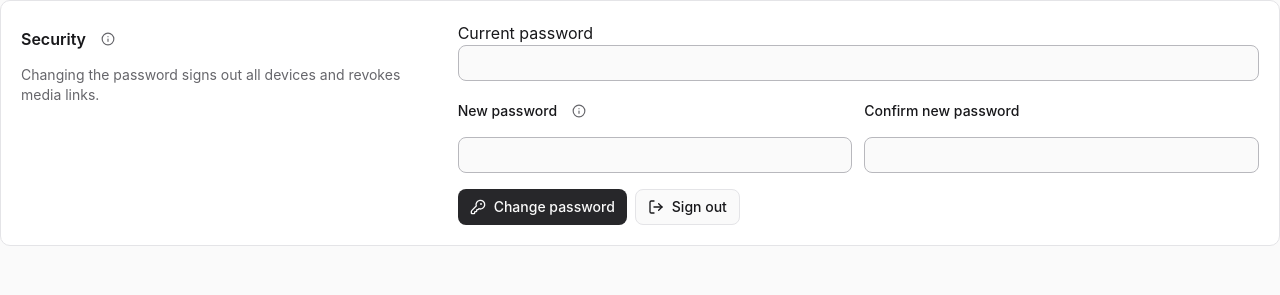
Test case: password form rejects fewer than eight characters
The image size is (1280, 295).
Step 1. Type "current-password" into the password field labelled "Current password" → (858, 63), box [458,45,1259,81]
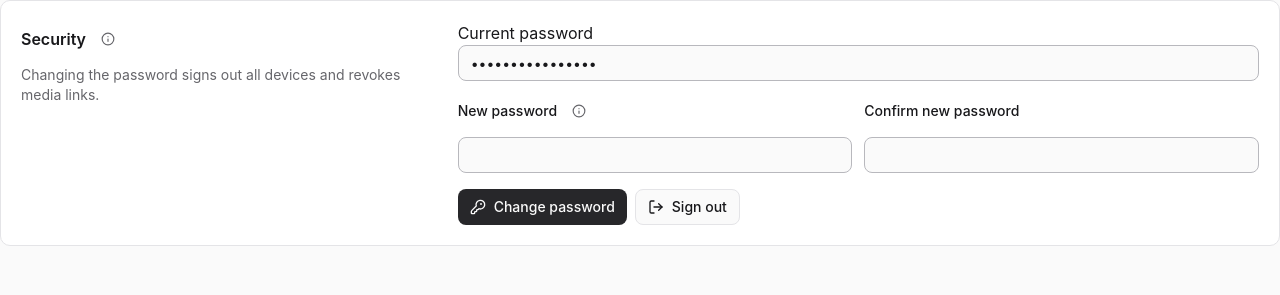
Step 2. Type "  short  " into the password field labelled "New password" → (655, 155), box [458,137,852,173]
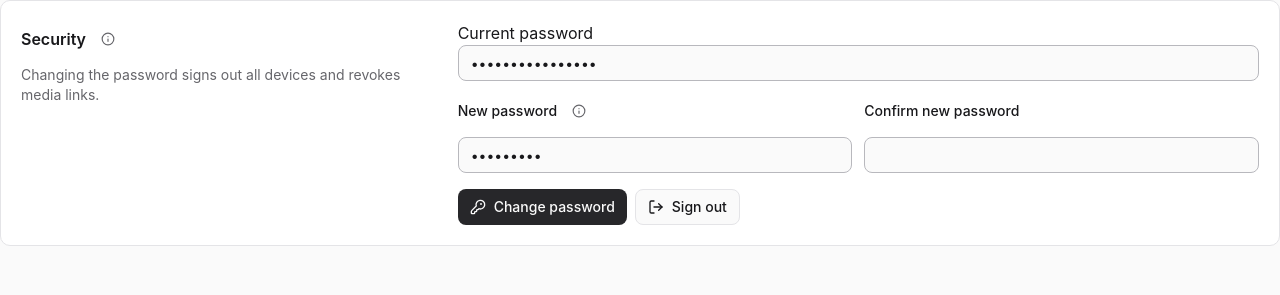
Step 3. Type "short" into the password field labelled "Confirm new password" → (1062, 155), box [864,137,1259,173]
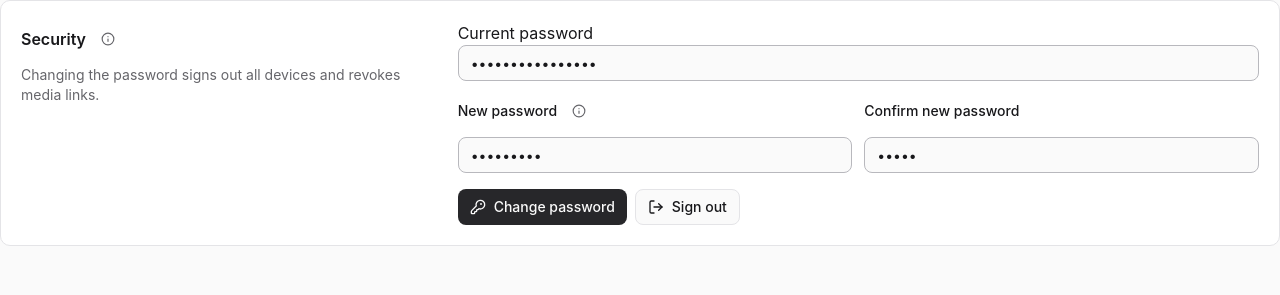
Step 4. Click the button "Change password" → (542, 207), box [458,189,627,225]
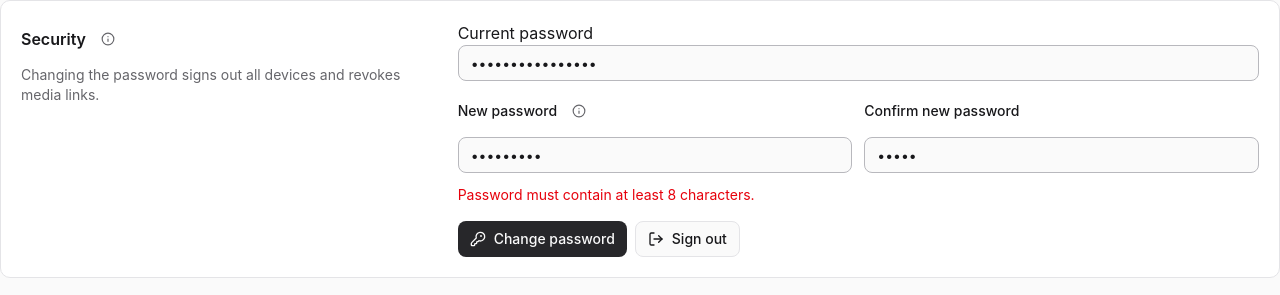
Now the text "Password must contain at least 8 characters." is shown, box [458,186,755,203]
